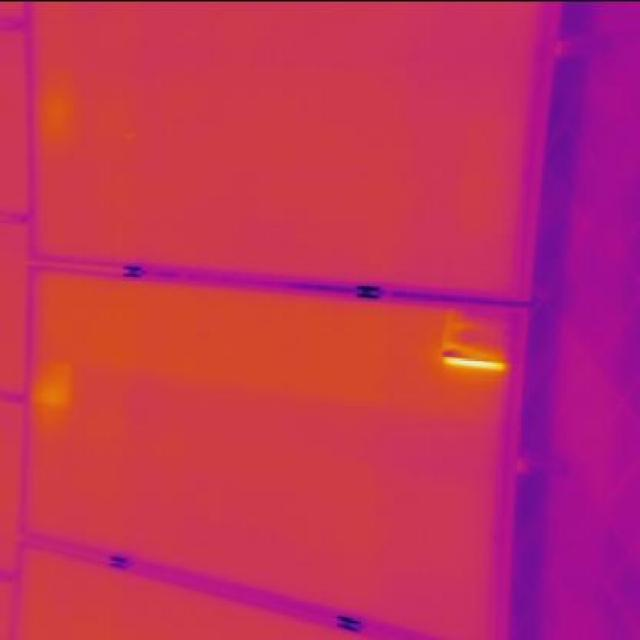hotspot: (438, 306, 524, 376)
